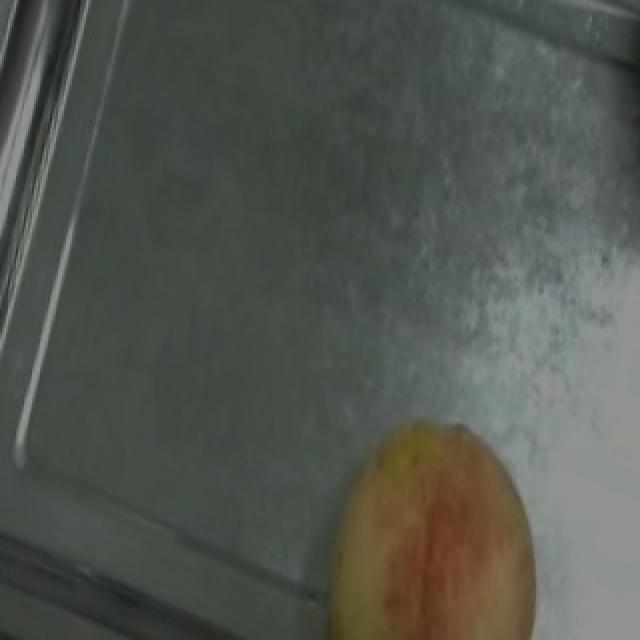Fruit: (280, 387, 572, 640)
